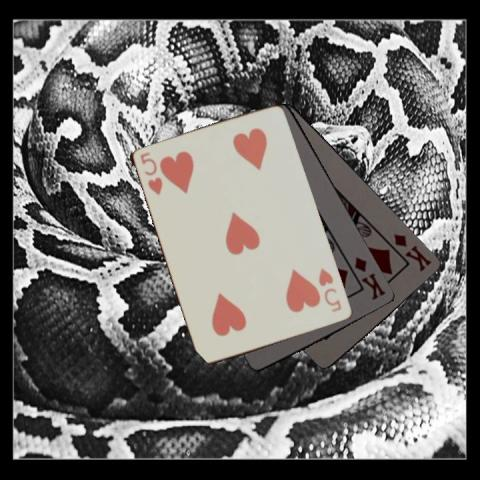5h: (137, 148, 165, 196), (316, 265, 343, 314)
Kd: (351, 253, 388, 302), (391, 230, 433, 273)
